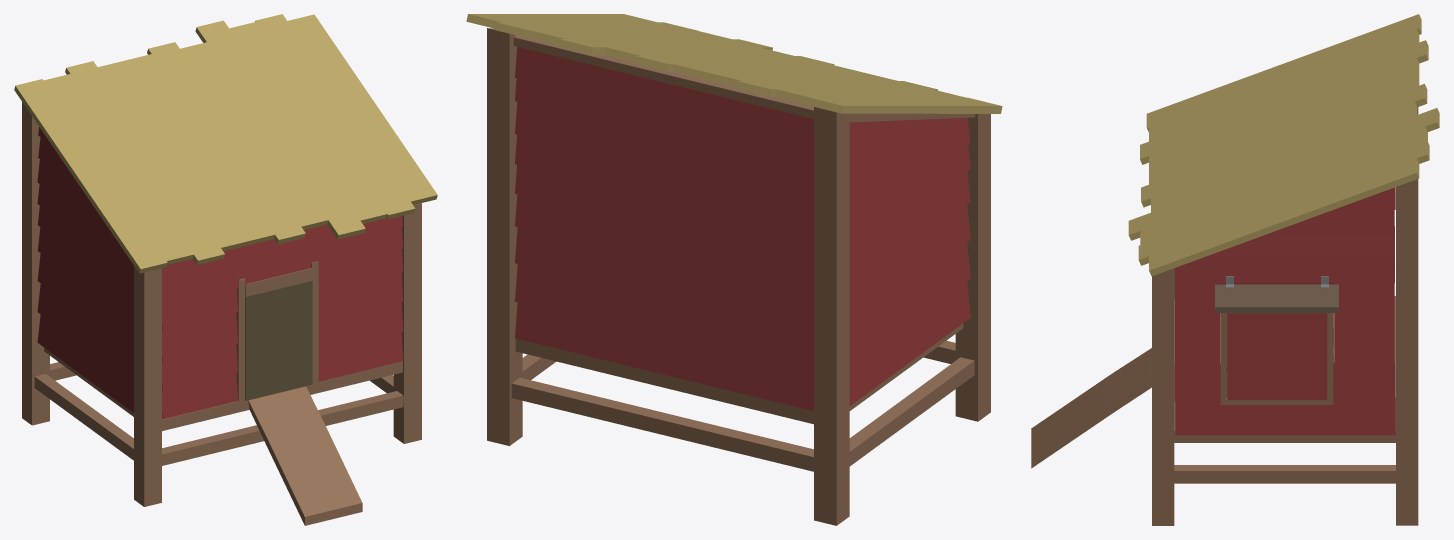
File: Chicken_Coop.fbx
3 views of the same model, side by side, from view 1: azimuth 30°, elevation 25°; view 2: azimuth 150°, elevation 25°; view 3: azimuth 270°, elevation 25° (orthographic). The views are drawn at different scales.
Parts seen in each view (by area): view 1: Chicken_coop_Combined; view 2: Chicken_coop_Combined; view 3: Chicken_coop_Combined.
Part boxes in pixels (bbox=[...]): Chicken_coop_Combined: bbox=[14, 14, 437, 525]; Chicken_coop_Combined: bbox=[466, 14, 1002, 525]; Chicken_coop_Combined: bbox=[1031, 14, 1439, 525].
Size of the model in its own units: 604 by 622 by 619.
